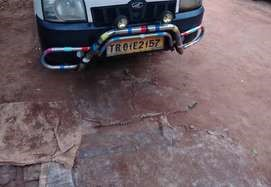TR01E2157: (106, 36, 164, 57)
